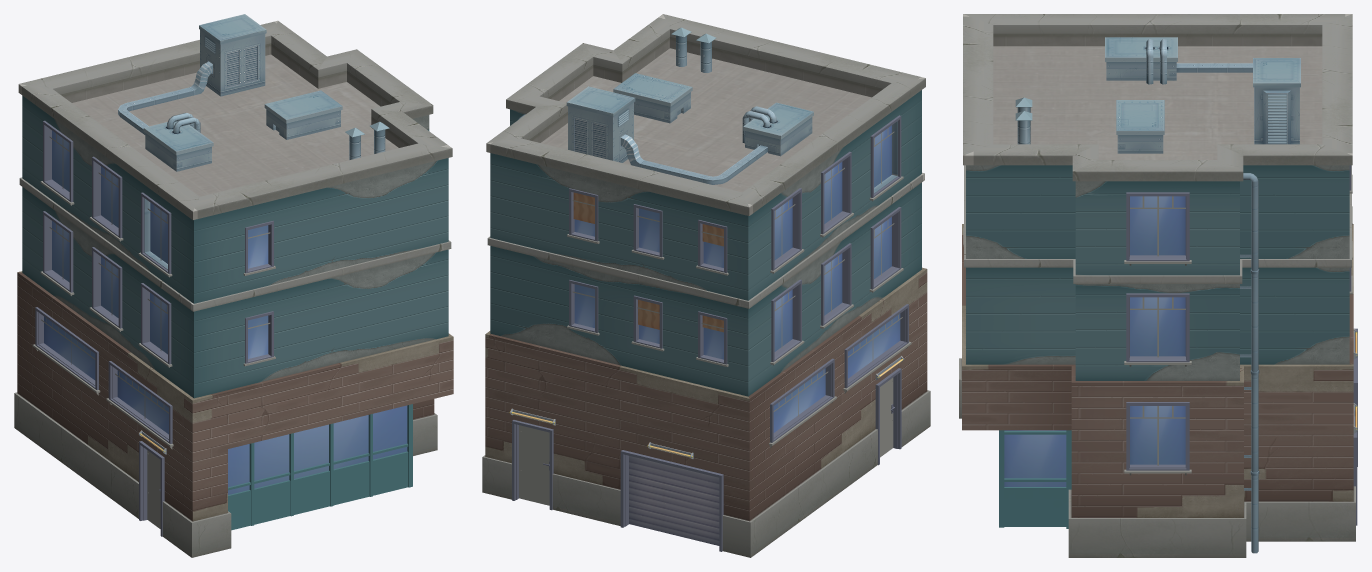
File: Building_05_2_LOD1.fbx
The picture shows the model from 3 angles, left to right: view 1: azimuth 30°, elevation 25°; view 2: azimuth 150°, elevation 25°; view 3: azimuth 270°, elevation 25°; orthographic projection. The views are drawn at different scales.
Parts seen in each view (by area): view 1: polySurface4179; view 2: polySurface4179; view 3: polySurface4179.
Boxes of the visible parts, x1,y1,x2,y2 form: polySurface4179: (14,14,453,557); polySurface4179: (482,14,930,557); polySurface4179: (959,14,1357,557).
Bounding box in the file's own units: 921 × 1142 × 956.
